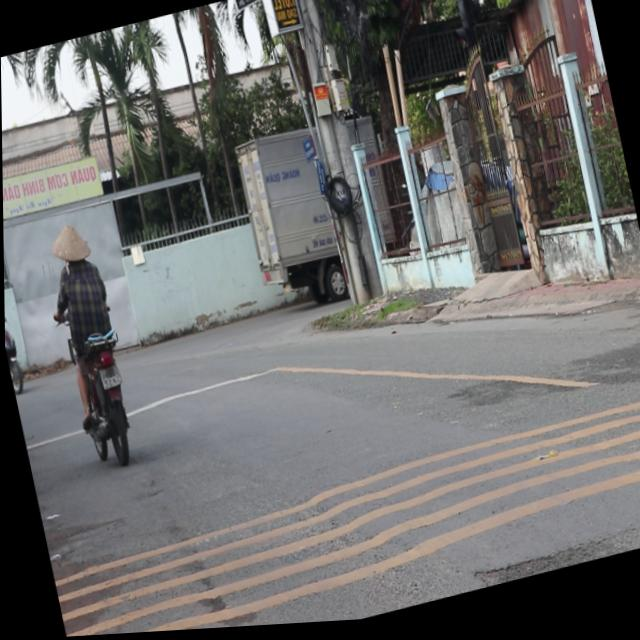licenseplate: (37, 213, 145, 473)
motorcyclist: (47, 217, 91, 272)
nohelmet: (98, 366, 119, 389)
